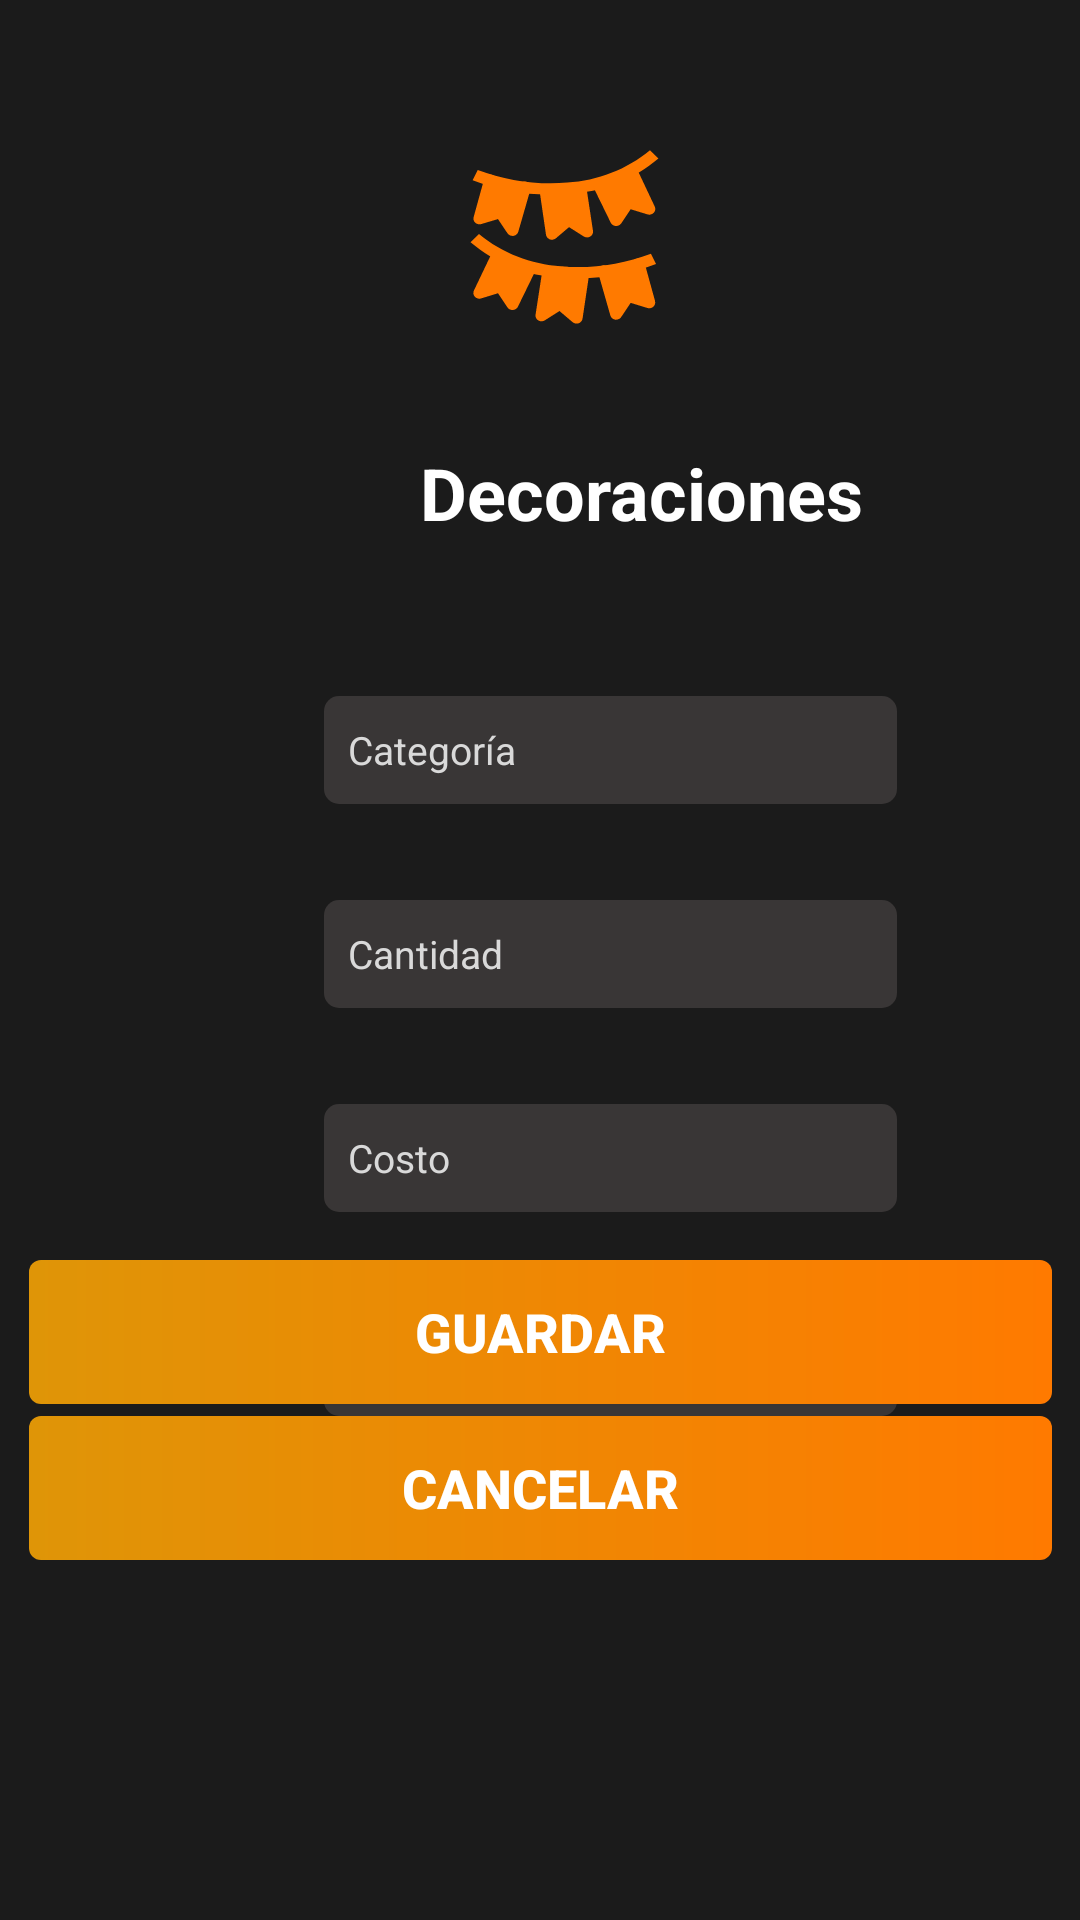

Icons on this 1080×1920 Android screen, each with its box as box=[x1, y1, x2, y2]:
decoracion amarillo: box=[470, 150, 659, 324]
